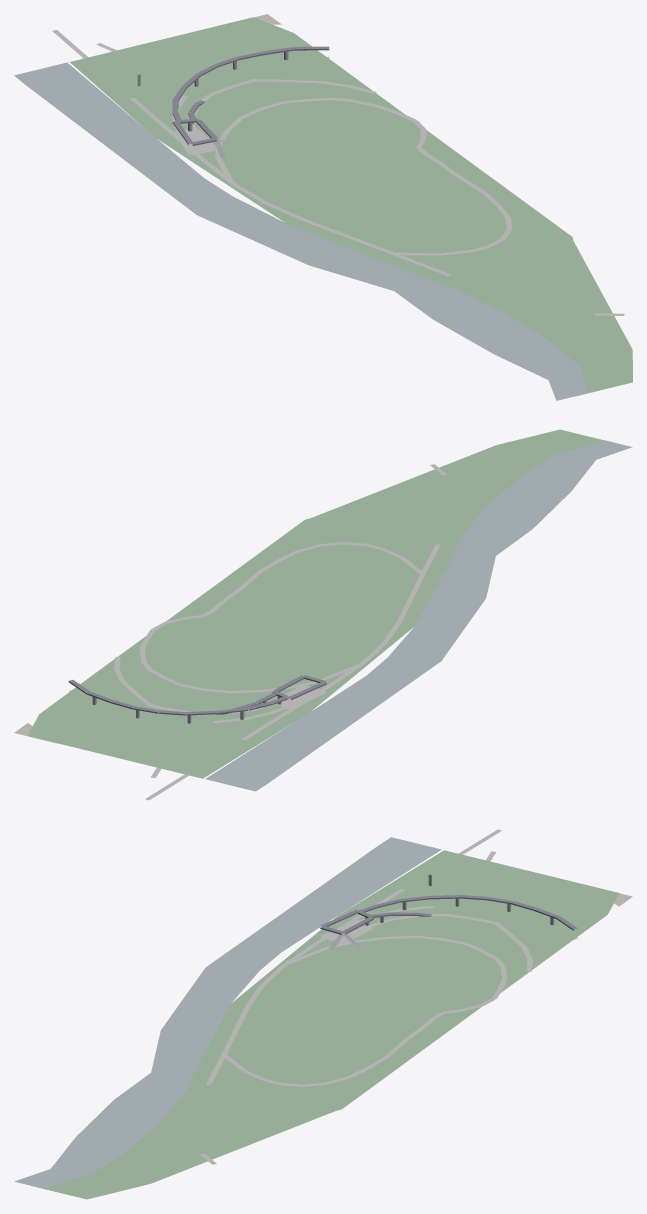
The picture shows the model from 3 angles, top to bottom: view 1: azimuth 30°, elevation 25°; view 2: azimuth 150°, elevation 25°; view 3: azimuth 330°, elevation 25°; orthographic projection. The views are drawn at different scales.
Size of the model in its own units: 162 by 7.63 by 539.
